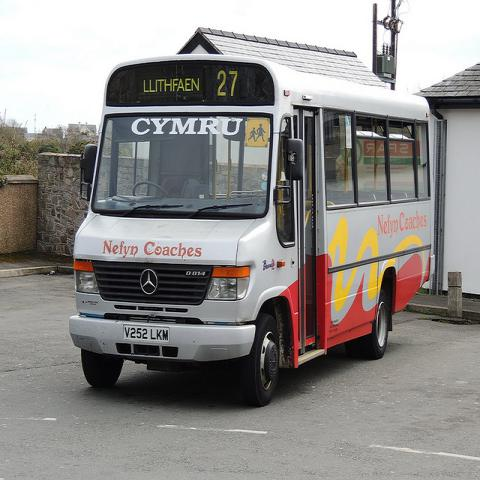bus: (69, 60, 435, 389)
